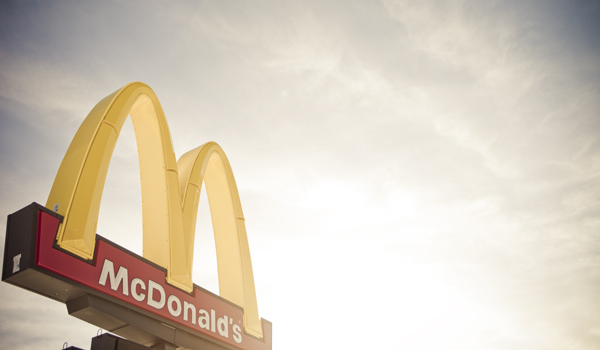mcdonalds: (51, 78, 263, 339)
